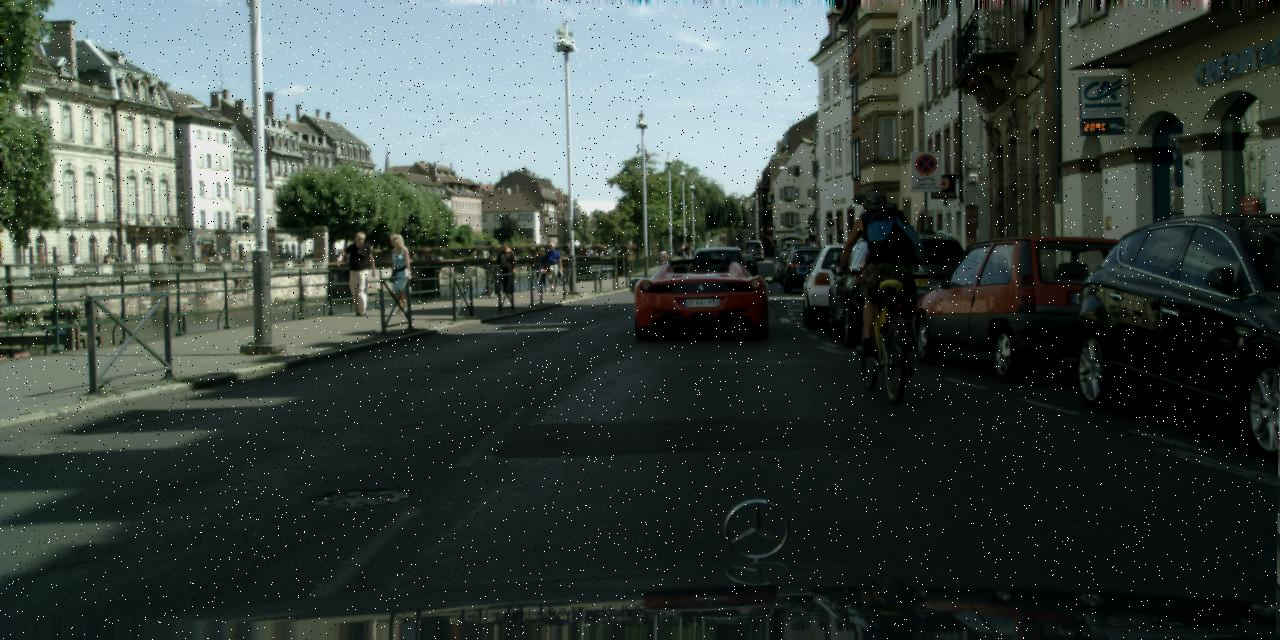ped: (847, 190, 919, 367), (343, 232, 377, 314), (381, 233, 414, 315), (496, 241, 516, 292), (543, 242, 563, 292), (534, 246, 551, 290), (681, 242, 693, 260)
